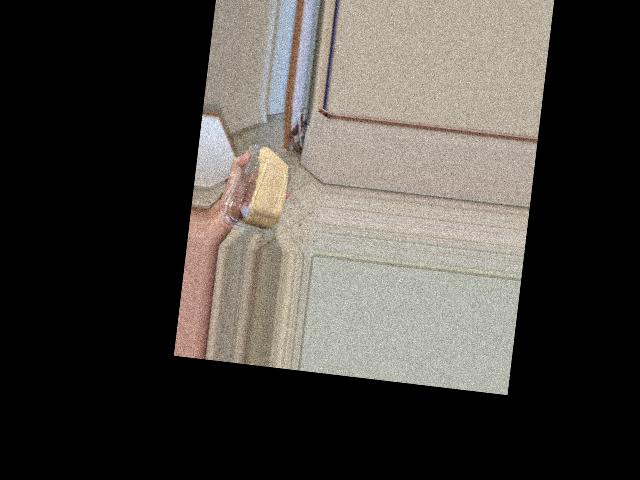cheese: (236, 161, 281, 240)
